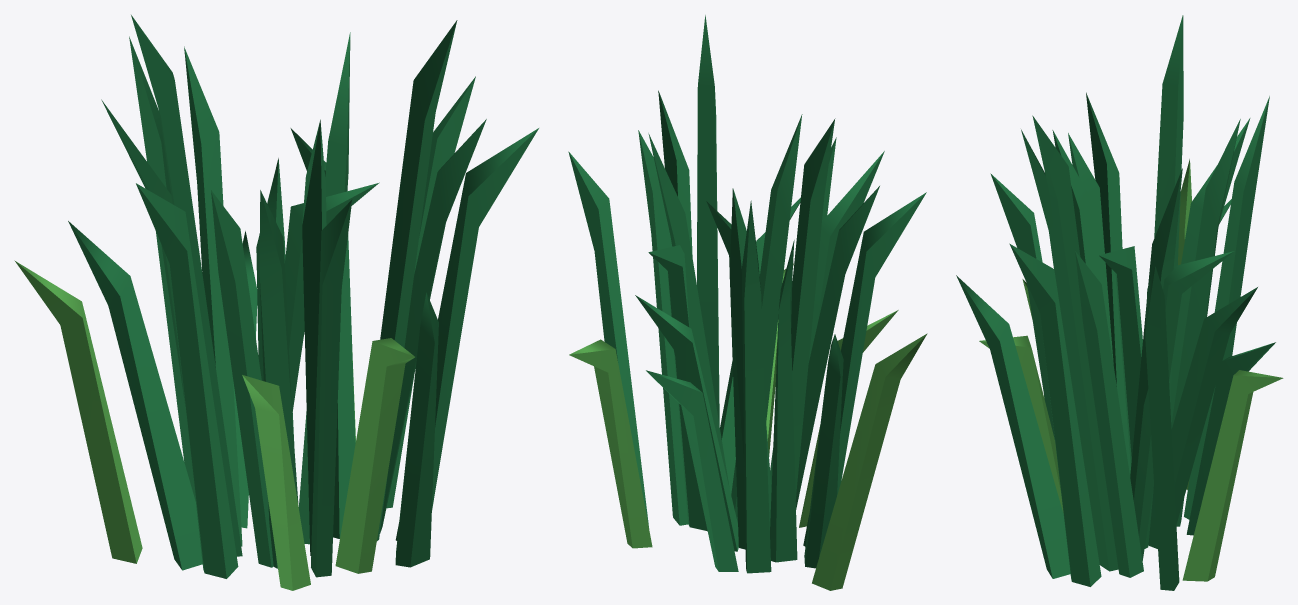
File: SM_Env_RicePlant_02-optimized.glb
3 views of the same model, side by side, from view 1: azimuth 30°, elevation 25°; view 2: azimuth 150°, elevation 25°; view 3: azimuth 270°, elevation 25° (orthographic). The views are drawn at different scales.
Parts seen in each view (by area): view 1: SM_Env_RicePlant_02; view 2: SM_Env_RicePlant_02; view 3: SM_Env_RicePlant_02.
Part boxes in pixels (x1,y1,x2,y2): SM_Env_RicePlant_02: (14, 15, 538, 590); SM_Env_RicePlant_02: (568, 15, 927, 590); SM_Env_RicePlant_02: (956, 15, 1283, 590).
Size of the model in its own units: 1.24 by 1.46 by 0.9214.
1 material, 1 textured.
